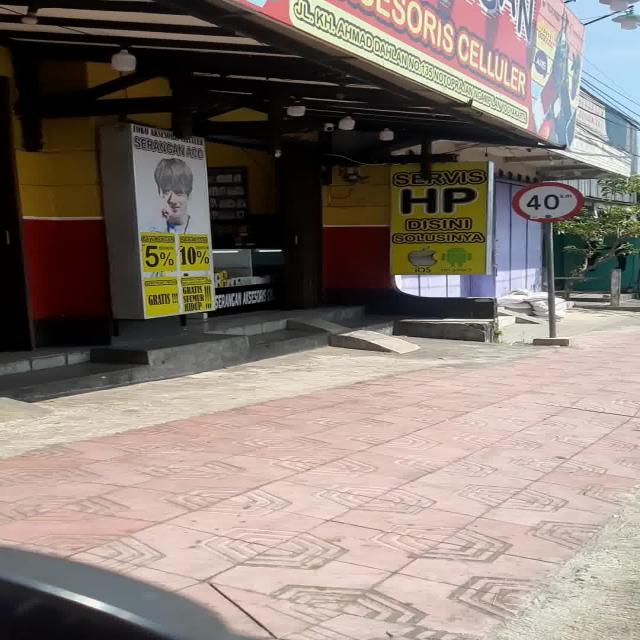Kecepatan Maks. 40 km: (512, 182, 584, 222)
